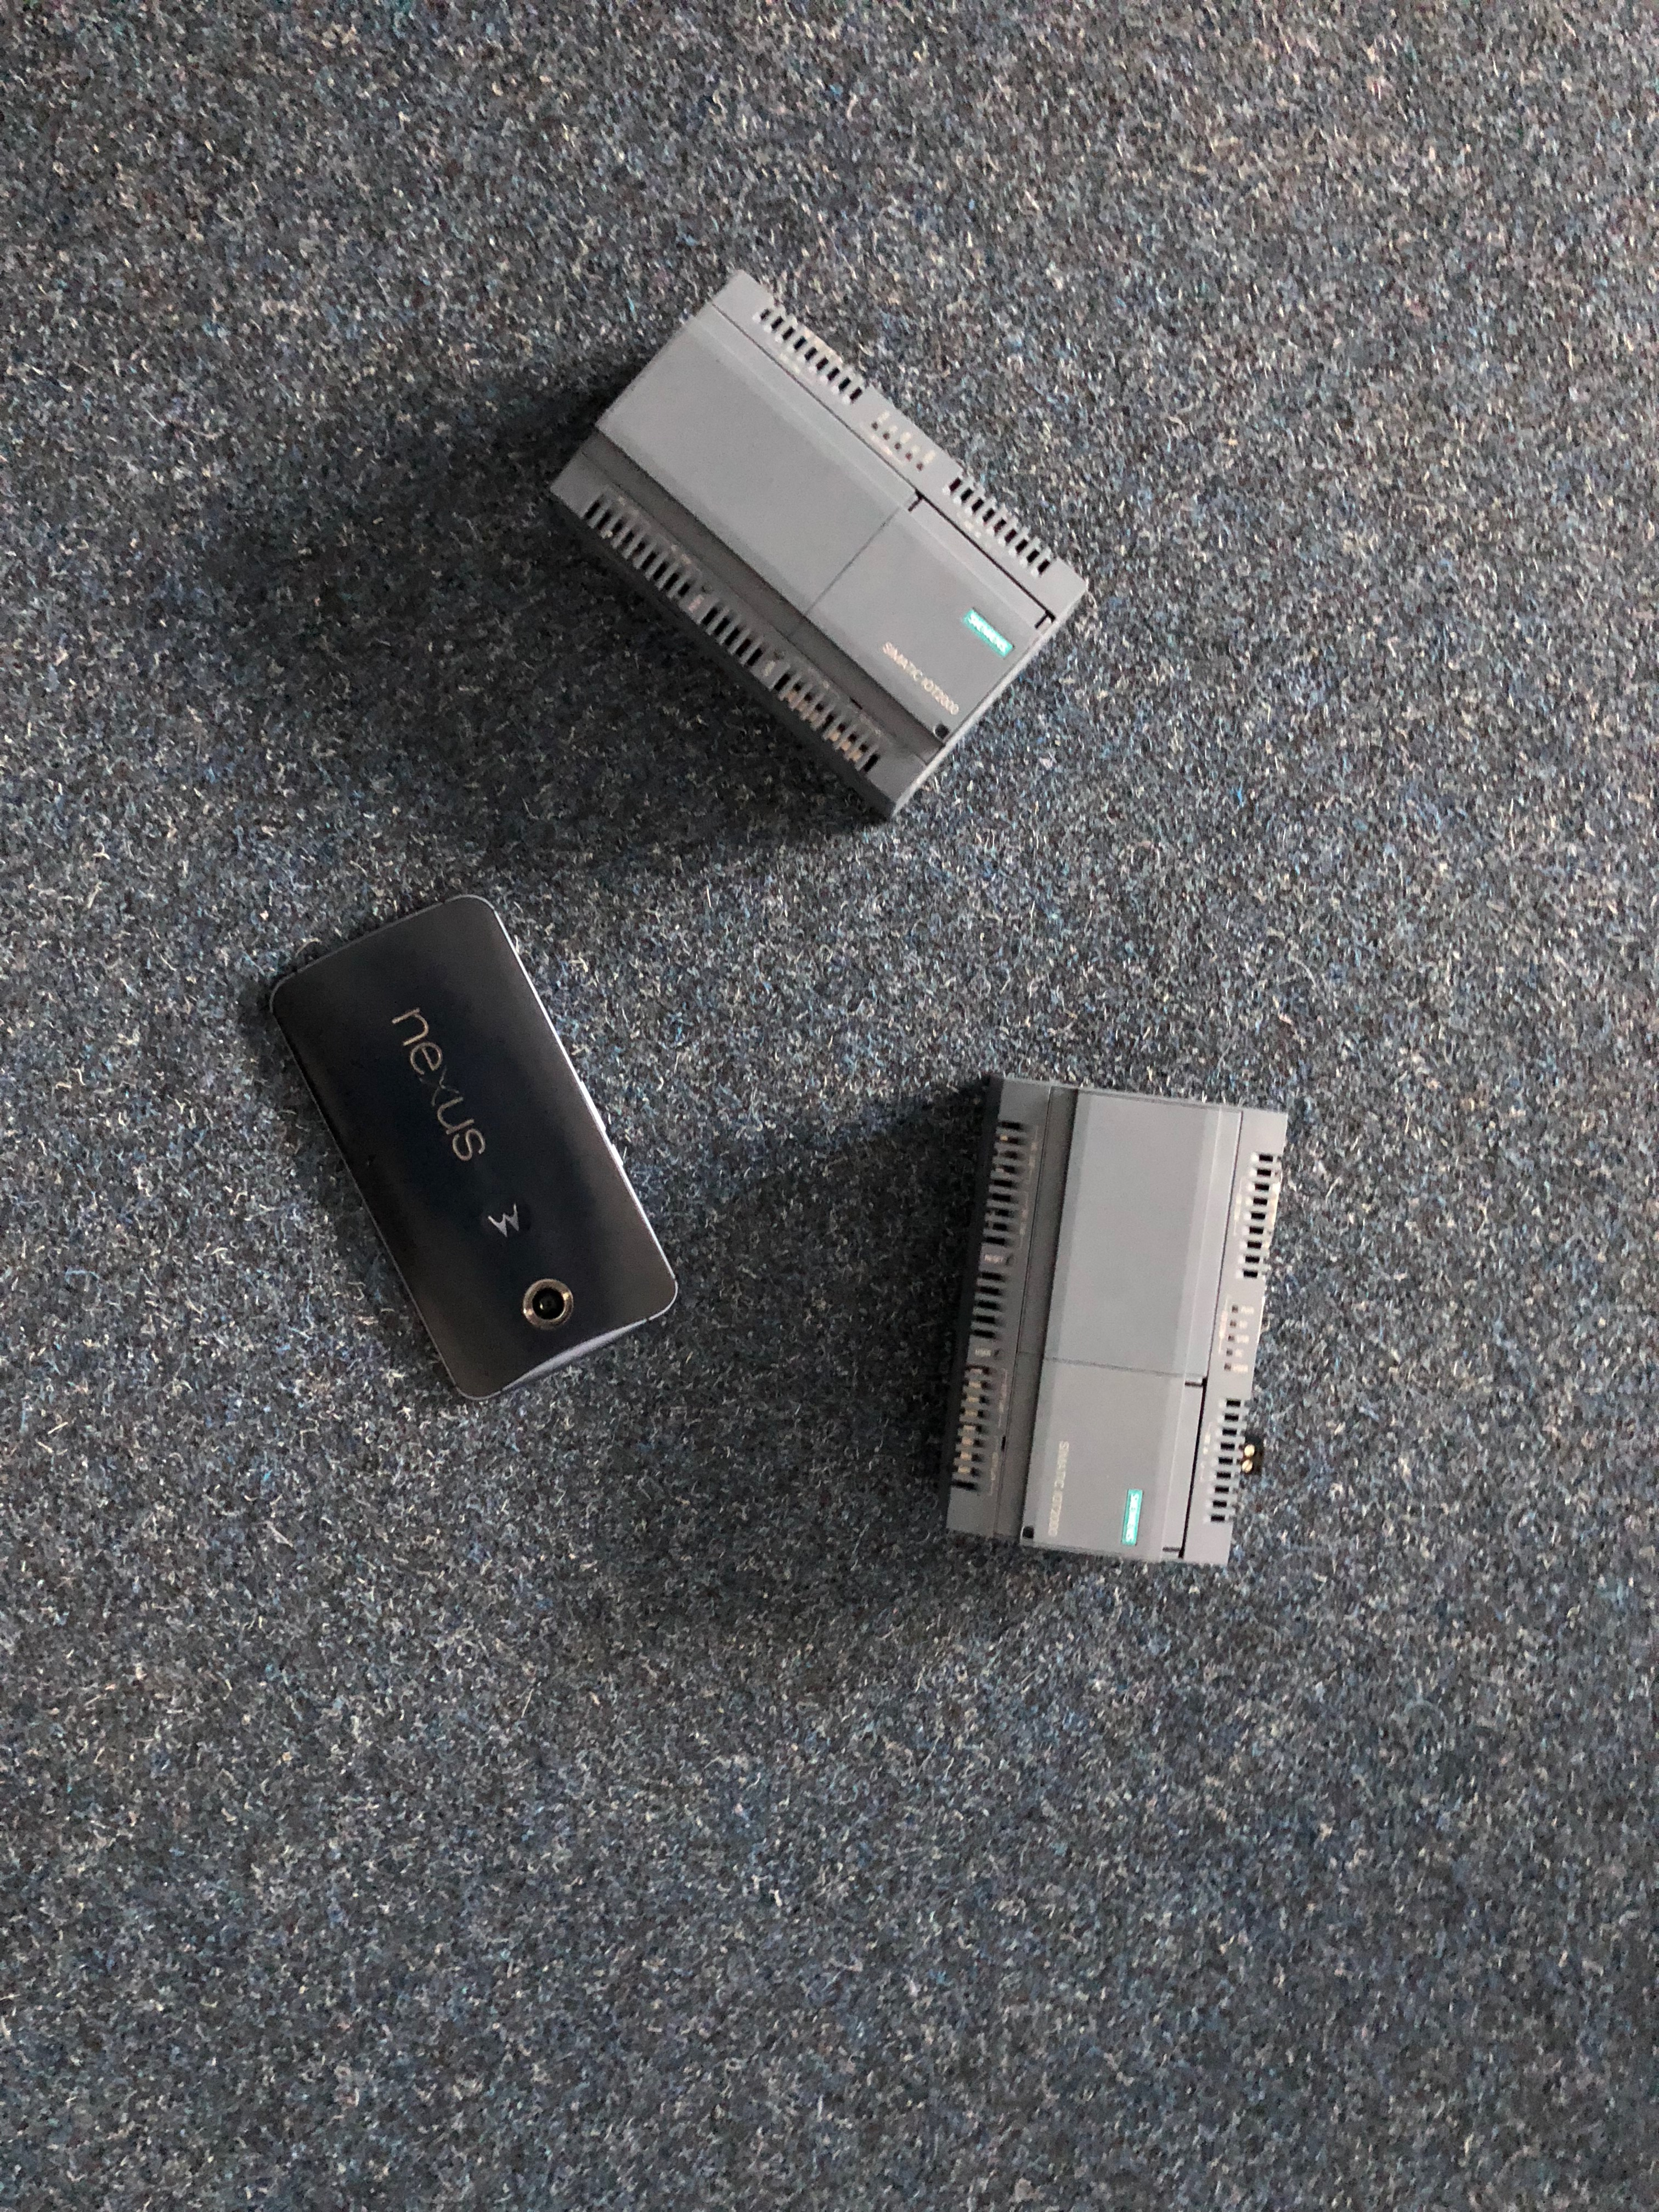device: (549, 270, 1091, 822), (938, 1075, 1288, 1568)
